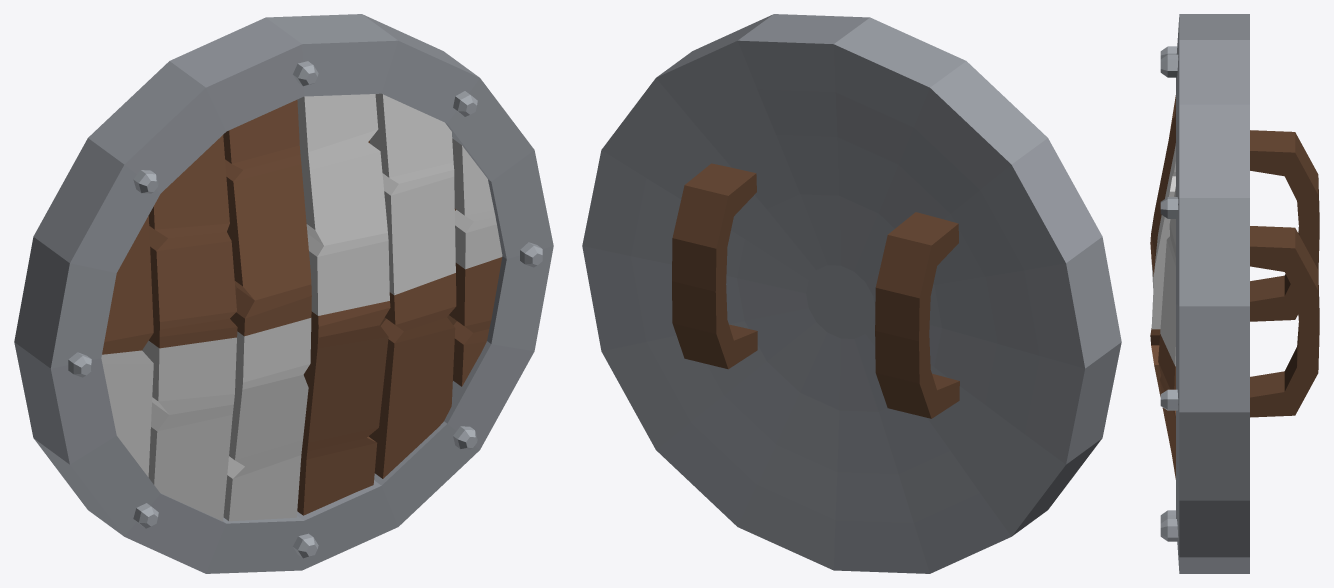
The model's file is escudo.glb.
3 views of the same model, side by side, from view 1: azimuth 30°, elevation 25°; view 2: azimuth 150°, elevation 25°; view 3: azimuth 270°, elevation 25° (orthographic). The views are drawn at different scales.
Visible parts, largest first — view 1: Shield_Round_2; view 2: Shield_Round_2; view 3: Shield_Round_2.
Part boxes in pixels (x1,y1,x2,y2): Shield_Round_2: [14, 14, 553, 573]; Shield_Round_2: [582, 14, 1121, 573]; Shield_Round_2: [1150, 14, 1319, 573].
Bounding box in the file's own units: 2 × 2 × 0.6037.
Materials: 1 (1 with a texture image).
